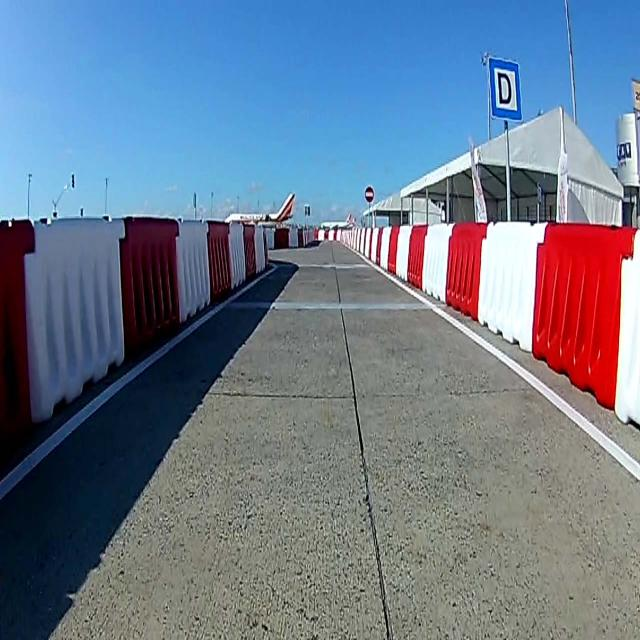durak: (487, 57, 521, 121)
girisyok: (364, 183, 374, 205)
